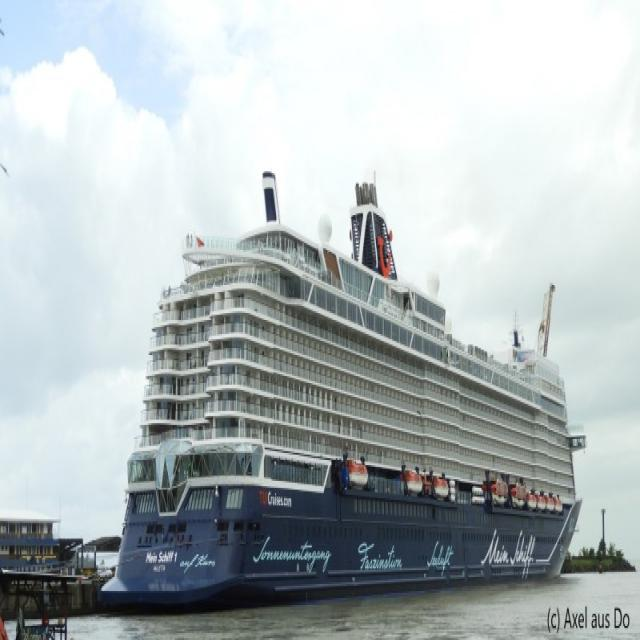cruises: (114, 164, 590, 617)
